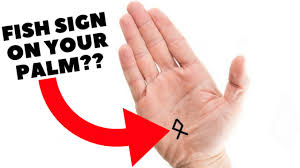palm: (145, 76, 227, 157)
